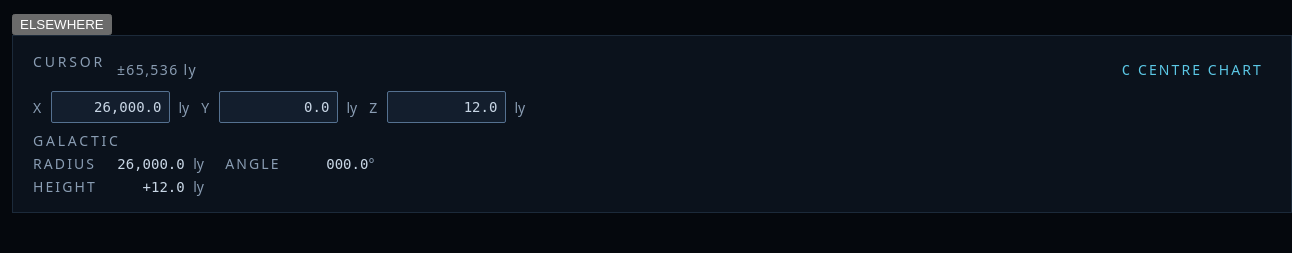
Test case: CentreEntry › refuses text that is not a number, and keeps the cursor
This screenshot has width=1292, height=253.
Replace the text in the field labelled "Z" with "north" at (447, 107), box [387,91,506,123]
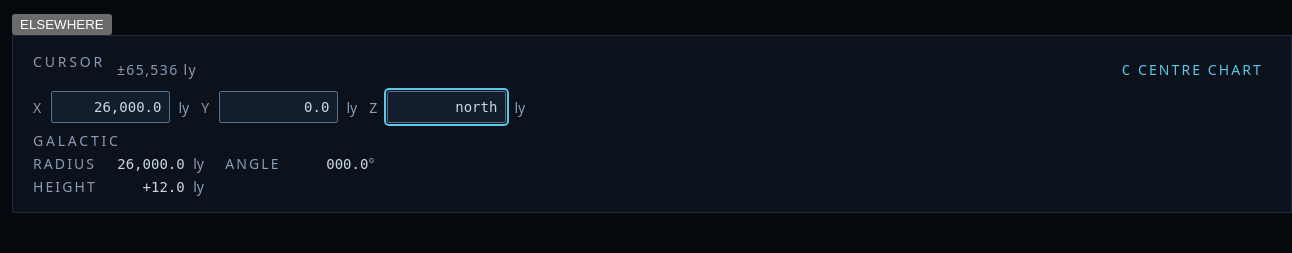
Press Tab
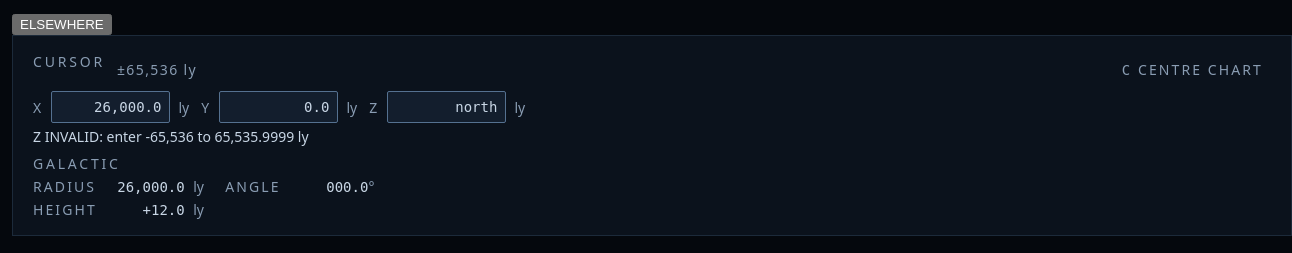
Expected: the element showing "+12.0 ly" is shown, [142,200,204,219]
Expected: the text "Z INVALID: enter -65,536 to 65,535.9999 ly" is shown, [33,127,309,146]
